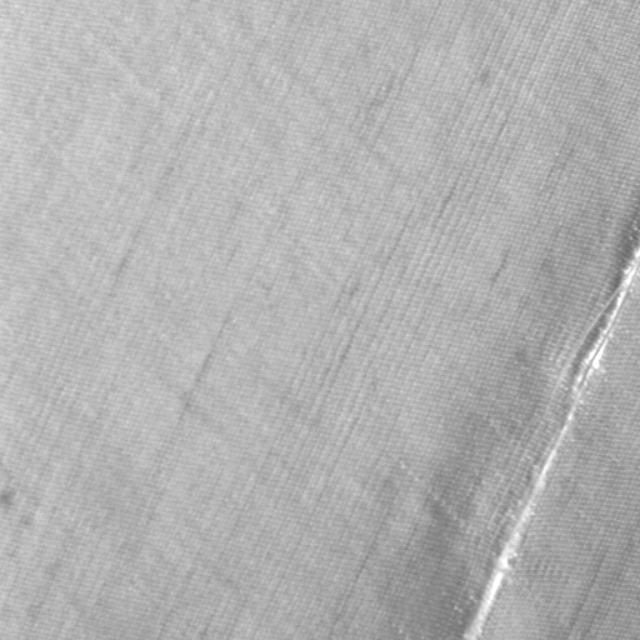hole: (466, 218, 640, 638)
